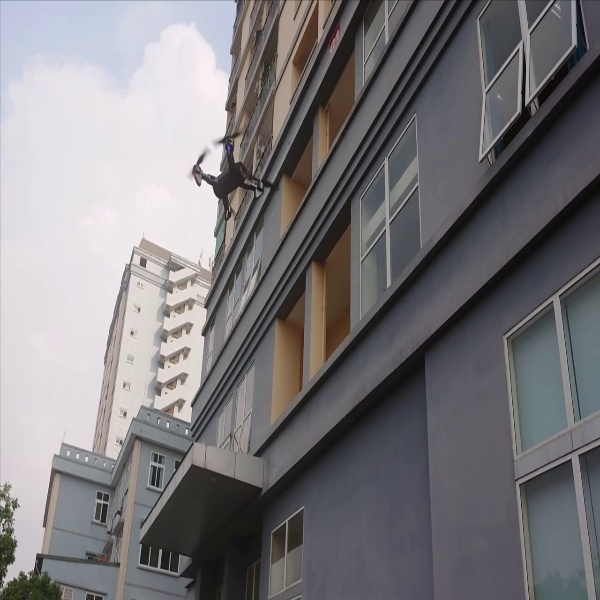drone: (178, 131, 281, 229)
